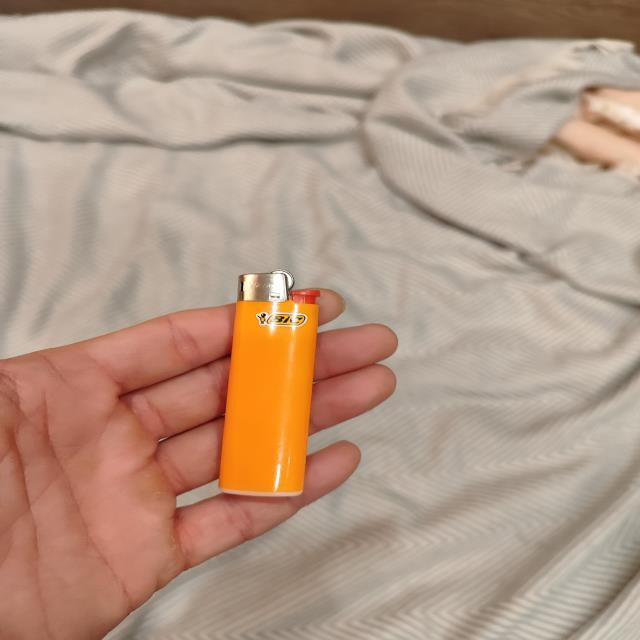lighter: (219, 272, 318, 496)
